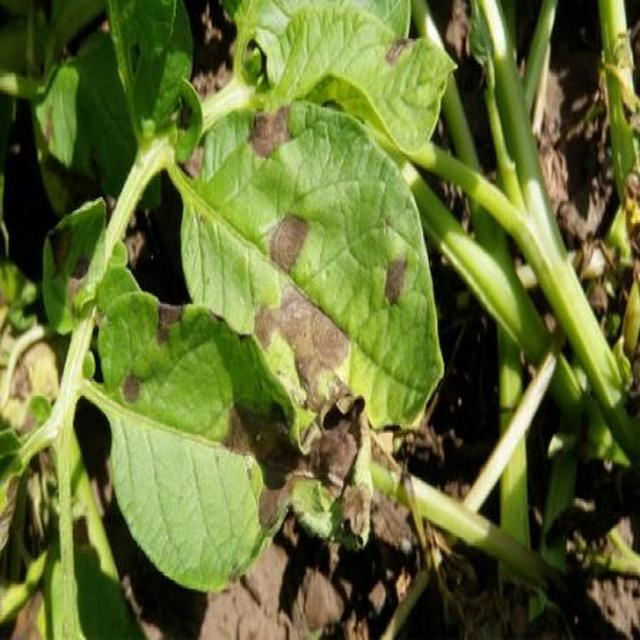Early Blight Leaf: (297, 372, 444, 633)
